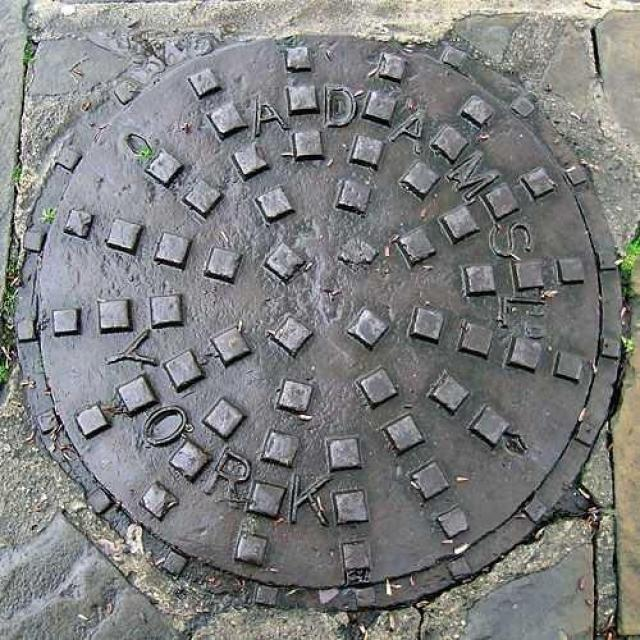manhole: (15, 20, 628, 621)
